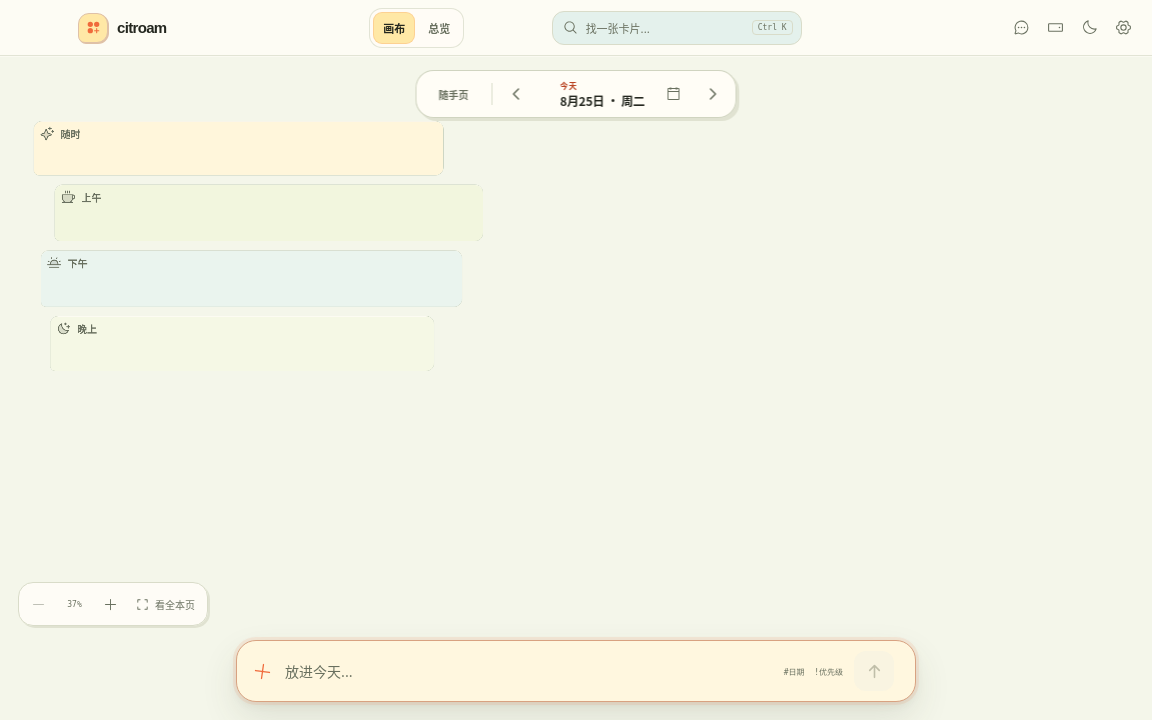
date page canvas › uses the measured stage when entering a date page from the loose page
This screenshot has width=1152, height=720.
Expected: the element named "今天的画布" is shown, [27,83,490,389]
Click the button named "打开随手页": click(454, 94) [422,76,486,112]
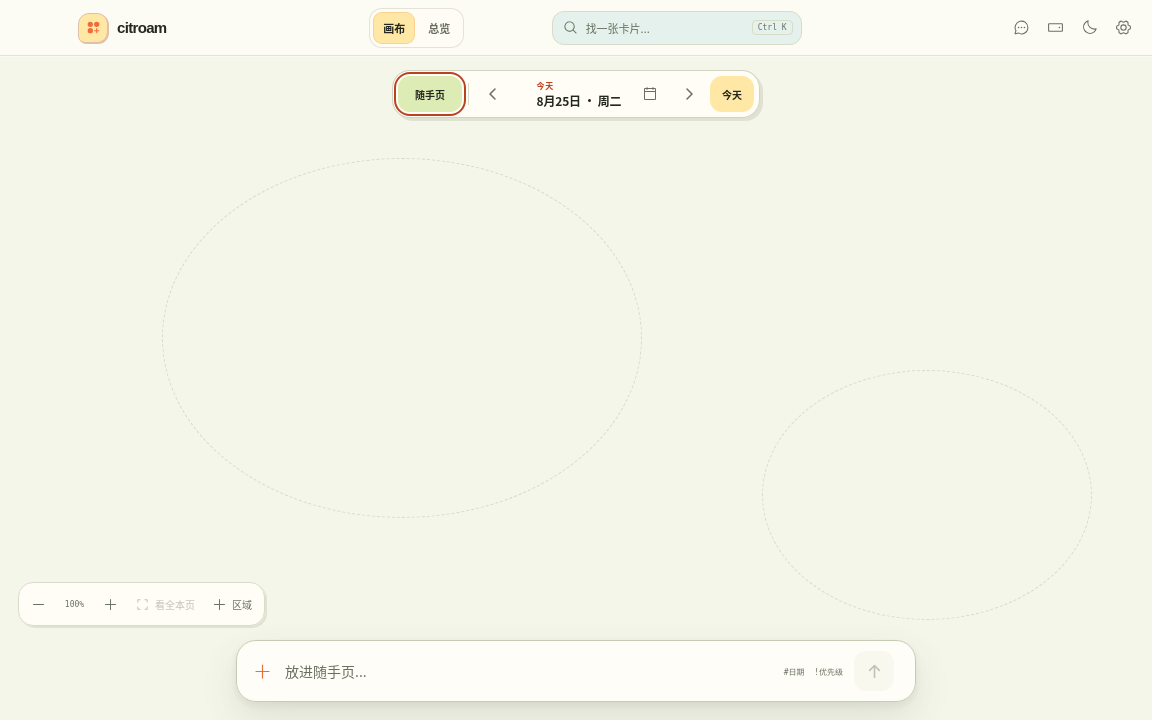
Click the button named "后一天": click(689, 94) [671,76,707,112]
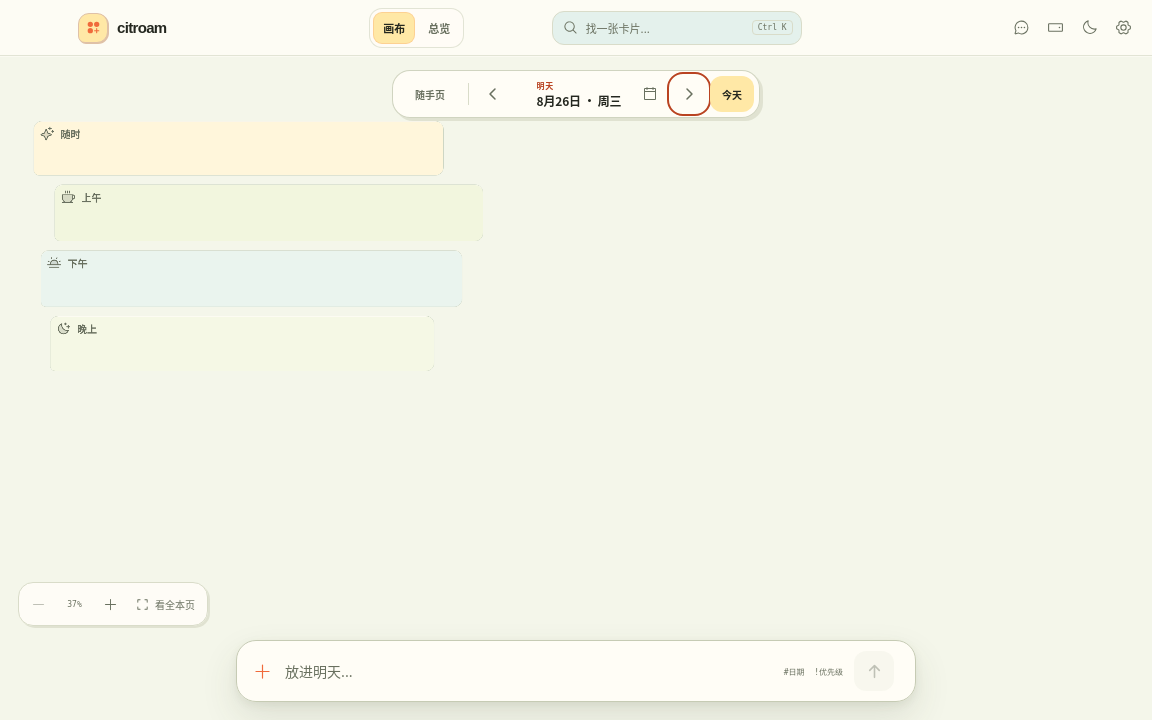
Expected: the element named "明天的画布" is shown, [27,83,490,389]
